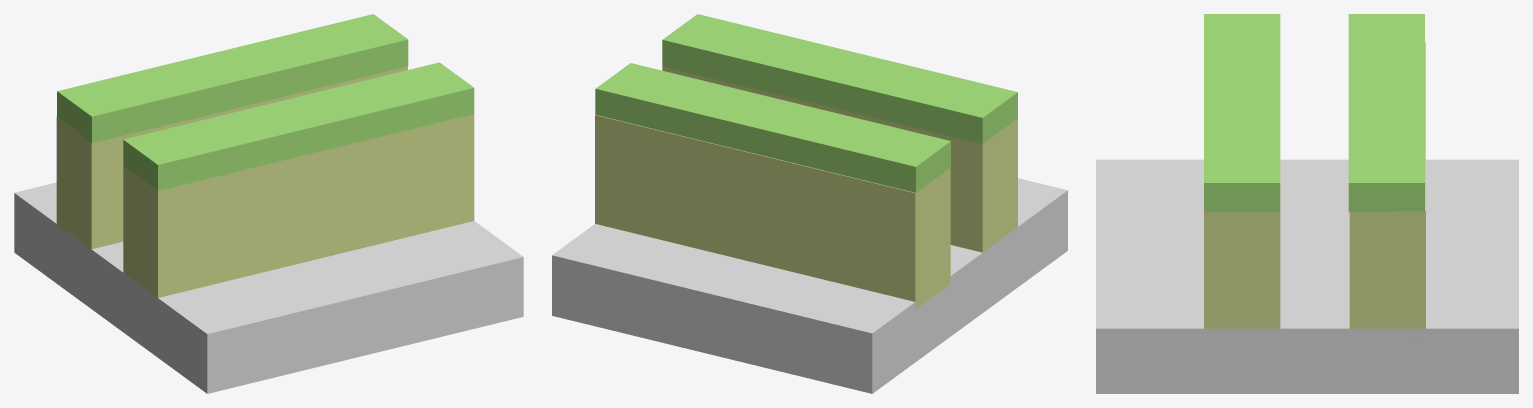
Rendered from finfet_sti.glb.
The picture shows the model from 3 angles, left to right: view 1: azimuth 30°, elevation 25°; view 2: azimuth 150°, elevation 25°; view 3: azimuth 270°, elevation 25°; orthographic projection. The views are drawn at different scales.
Parts seen in each view (by area): view 1: Cube, Cube.001, Cube.004, Cube.003, Cube.002; view 2: Cube, Cube.002, Cube.003, Cube.004, Cube.001; view 3: Cube, Cube.003, Cube.004, Cube.002, Cube.001.
Boxes of the visible parts, bbox=[...] form: Cube: bbox=[14, 182, 523, 393]; Cube.001: bbox=[123, 114, 474, 297]; Cube.004: bbox=[57, 14, 408, 143]; Cube.003: bbox=[123, 62, 474, 191]; Cube.002: bbox=[56, 66, 407, 256]; Cube: bbox=[552, 178, 1067, 393]; Cube.002: bbox=[595, 115, 950, 309]; Cube.003: bbox=[662, 14, 1017, 143]; Cube.004: bbox=[595, 63, 950, 192]; Cube.001: bbox=[662, 66, 1017, 252]; Cube: bbox=[1096, 159, 1518, 393]; Cube.003: bbox=[1204, 14, 1280, 212]; Cube.004: bbox=[1348, 14, 1424, 212]; Cube.002: bbox=[1349, 42, 1425, 333]; Cube.001: bbox=[1204, 211, 1280, 331].
Bounding box in the file's own units: 2.2 × 1.28 × 2.33.
